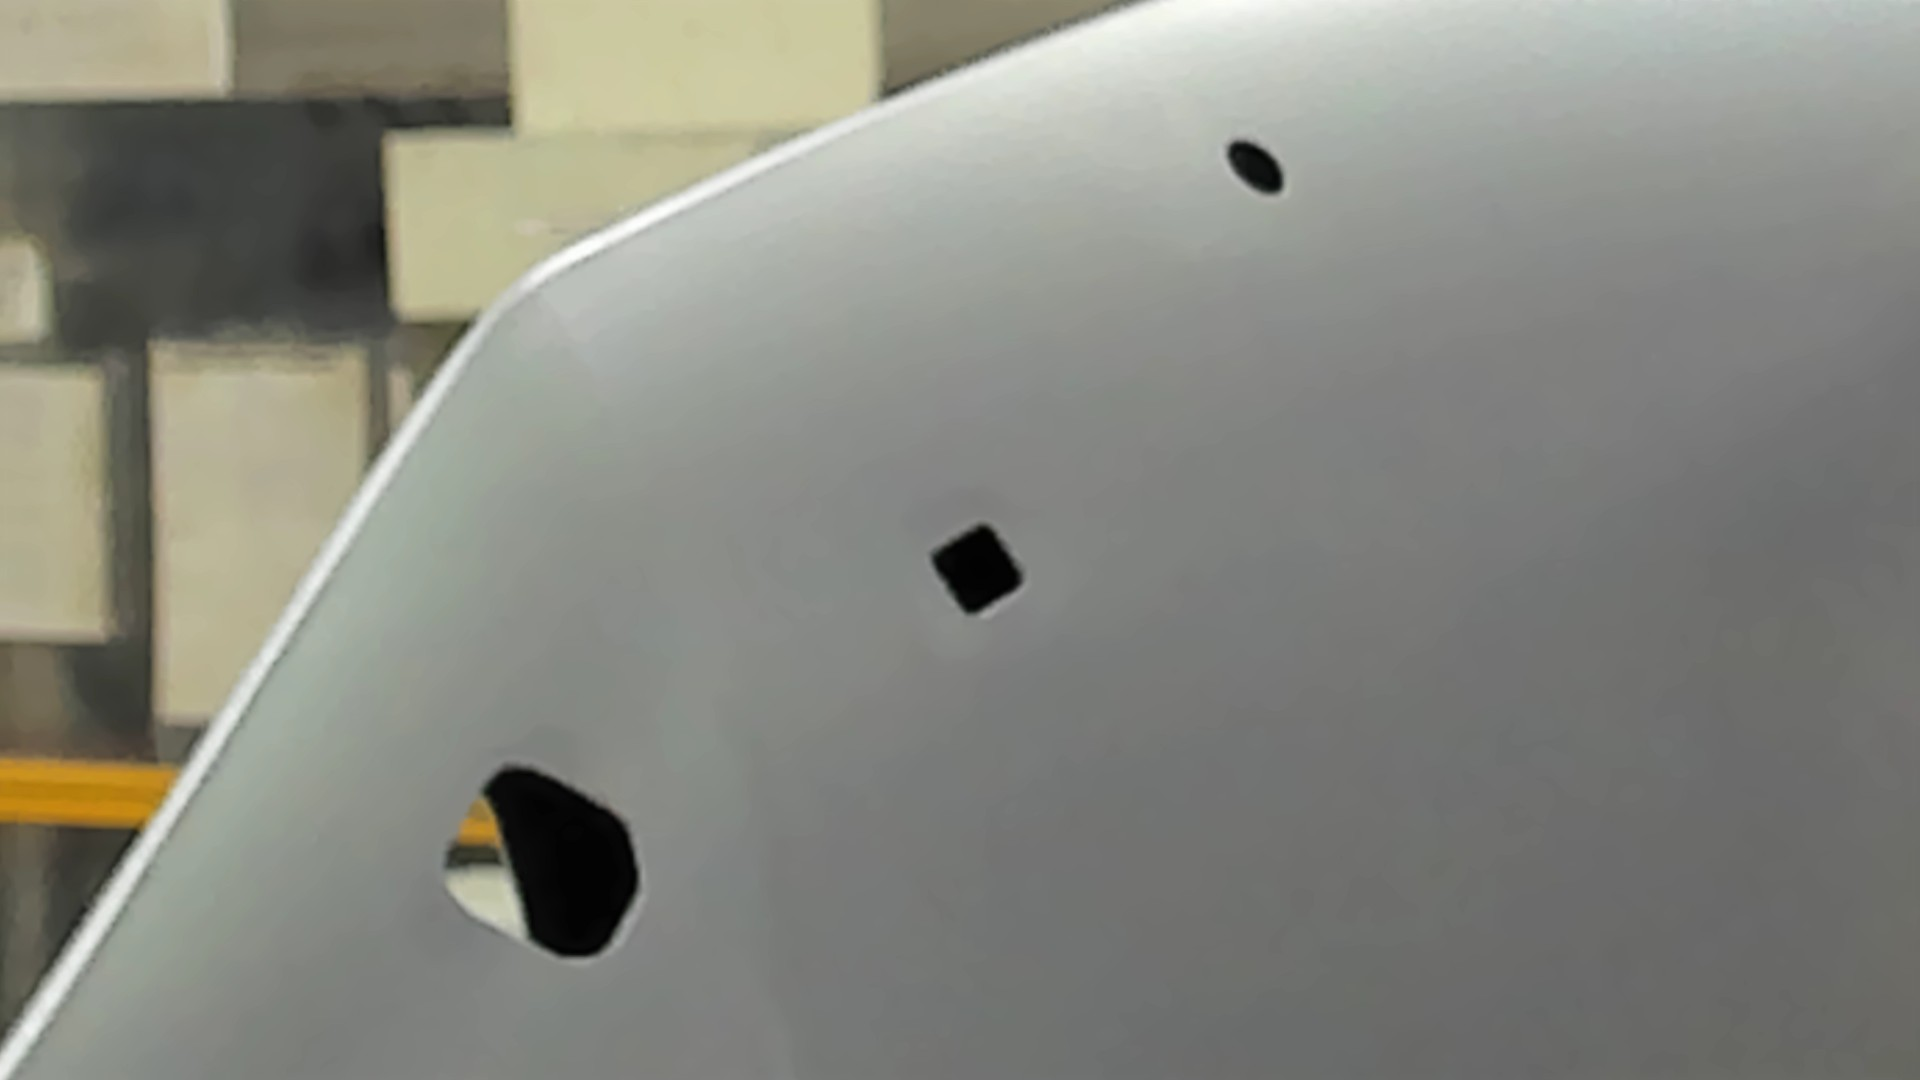chico: (1218, 133, 1294, 202)
grande: (433, 760, 650, 971)
mediano: (923, 520, 1029, 622)
